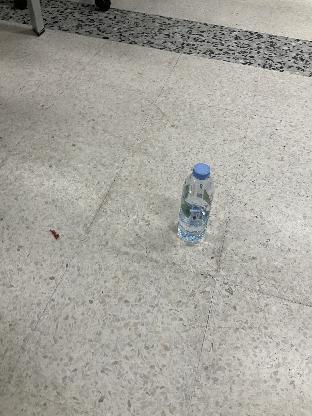Plastic Bottle: (176, 164, 214, 244)
